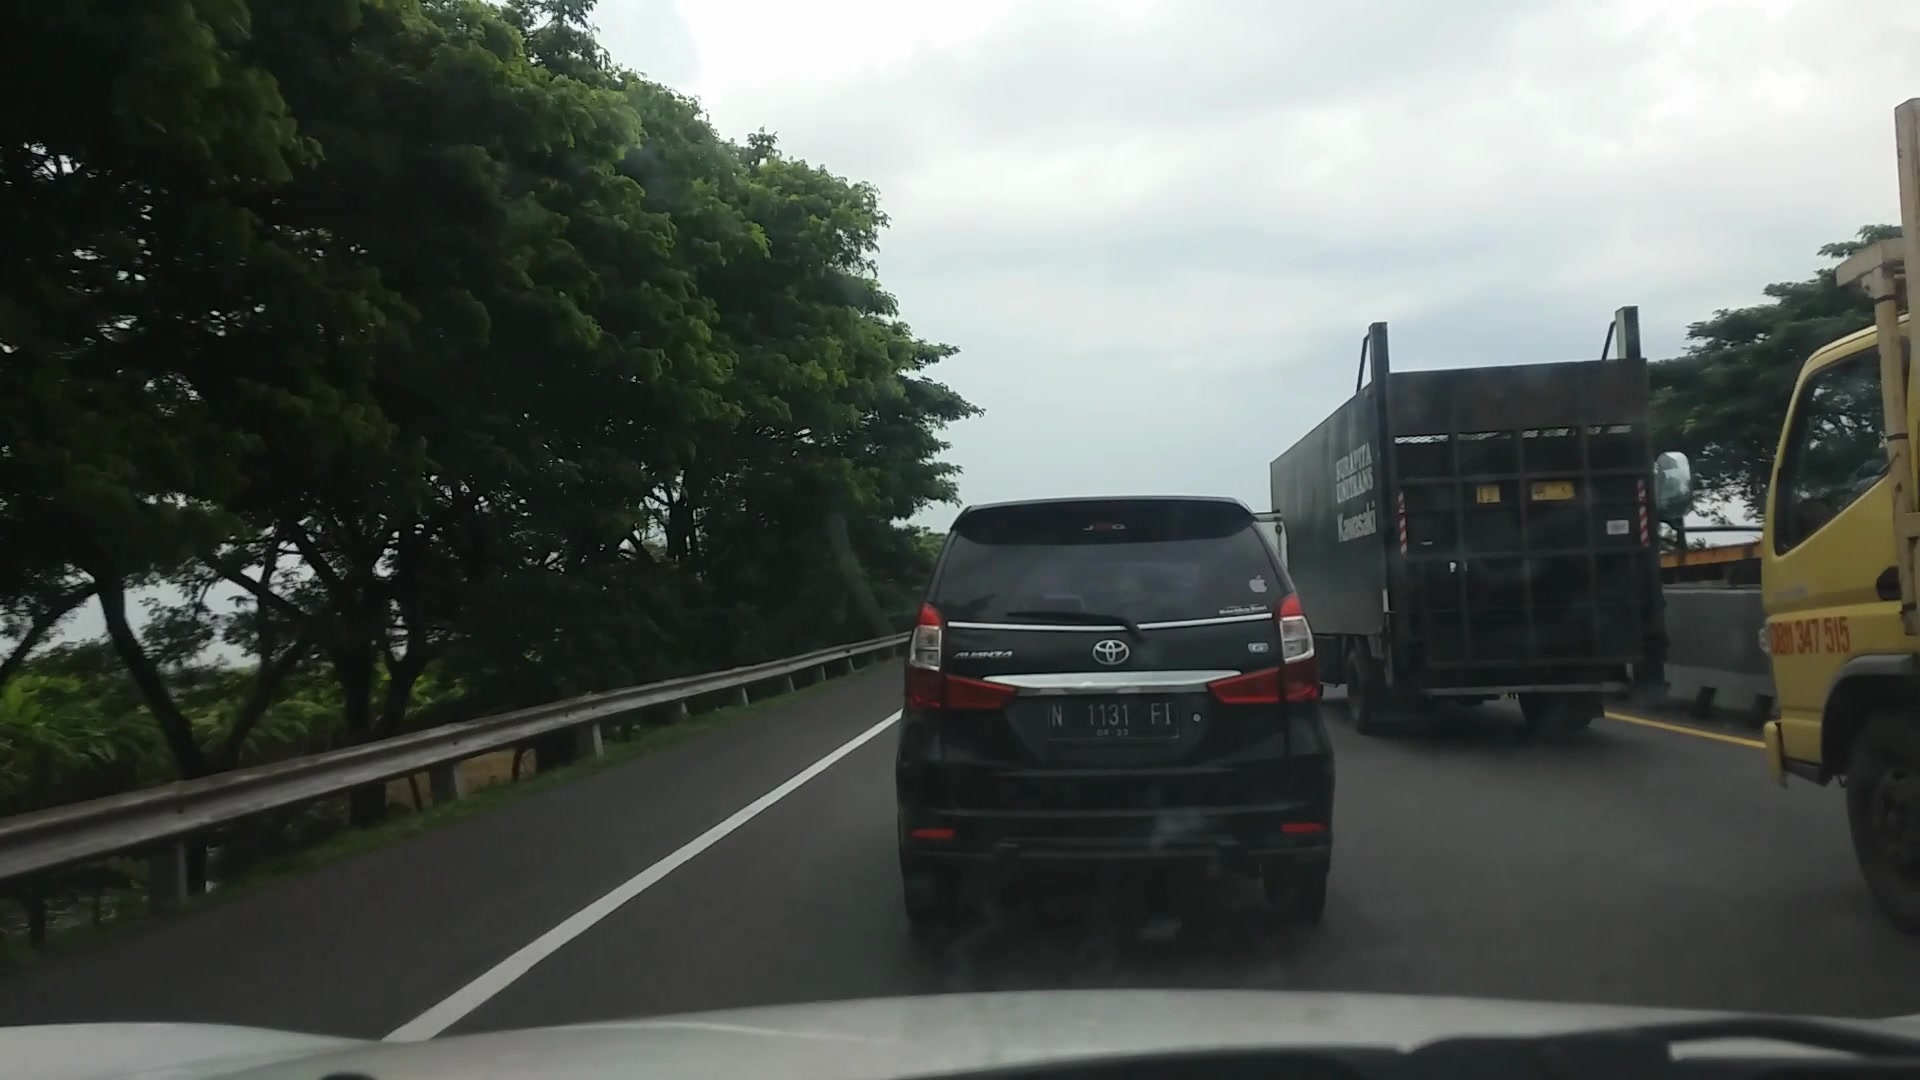plate_positive: (1047, 698, 1178, 742)
